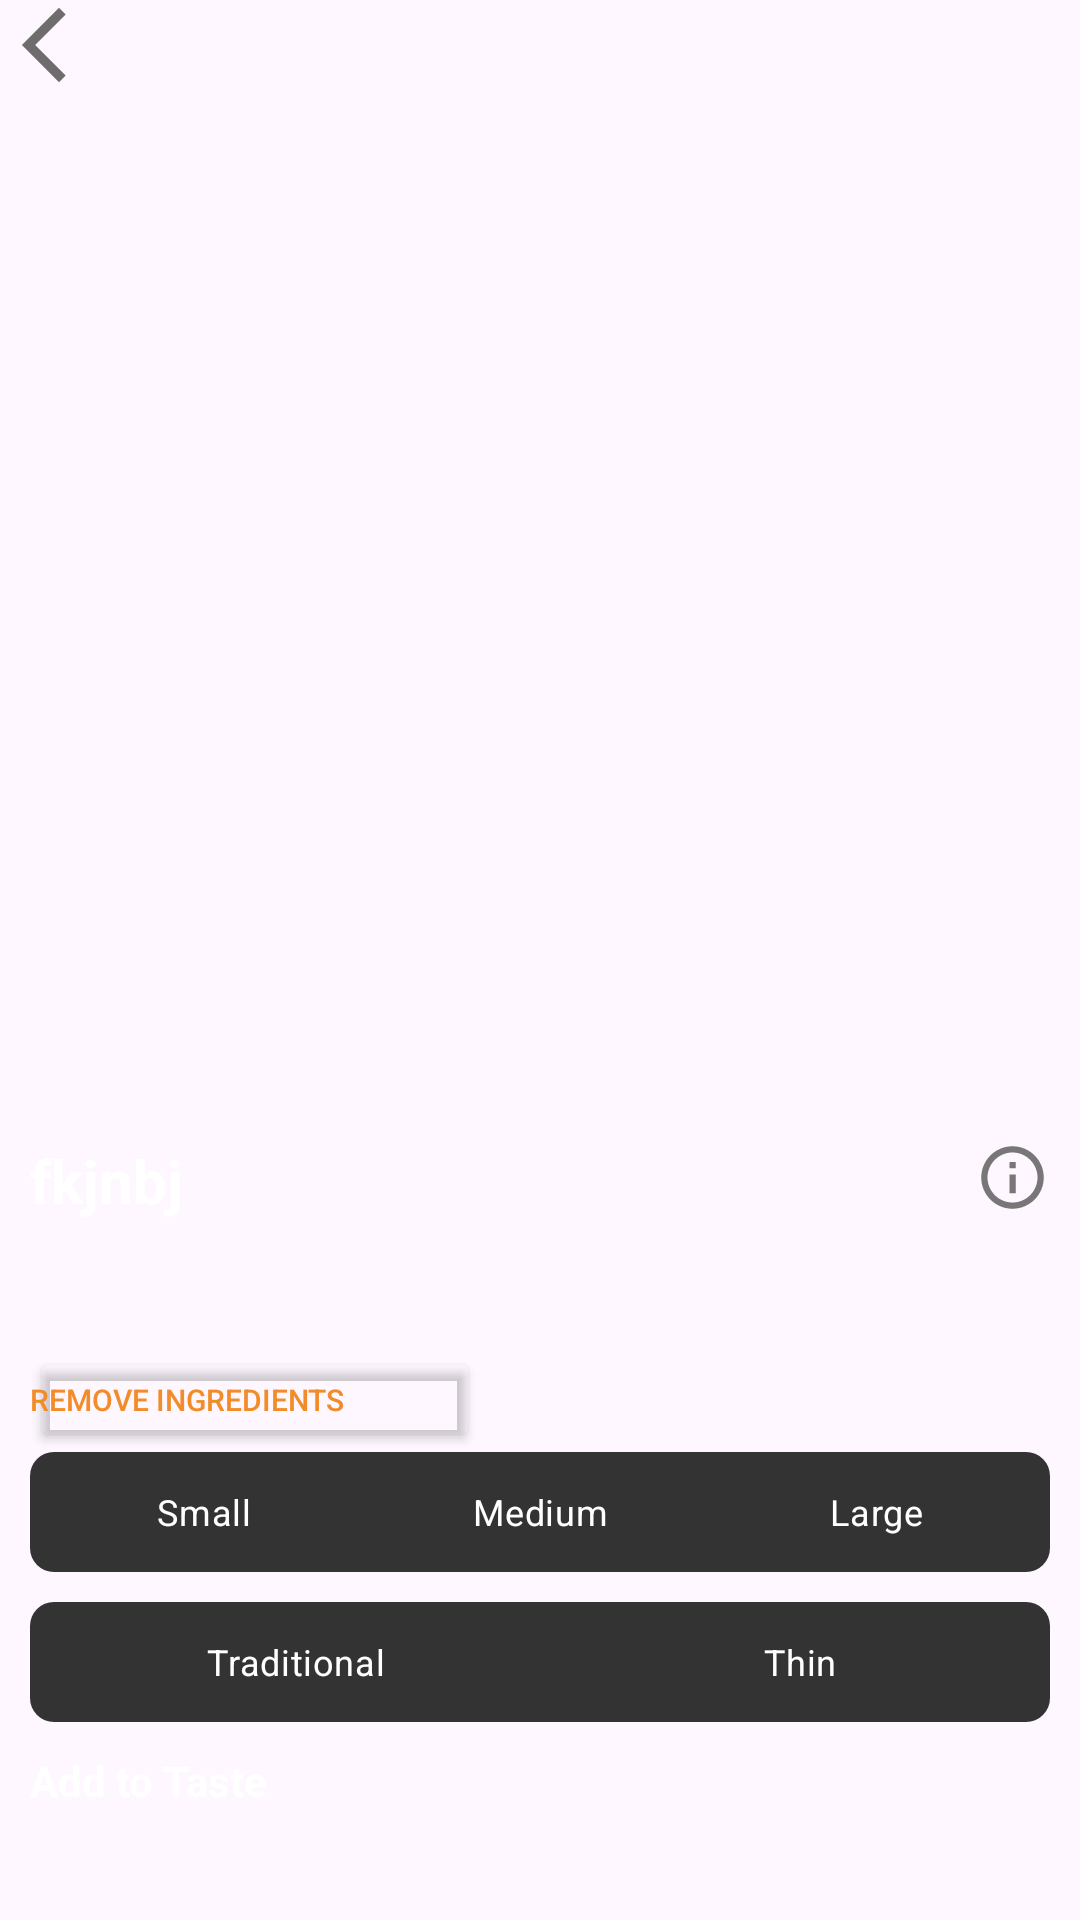

Icons on this 1080px x 1920px Android screen, each with the point to tap as (x=x, y=y):
goback: (x=44, y=45)
info: (x=1012, y=1177)
